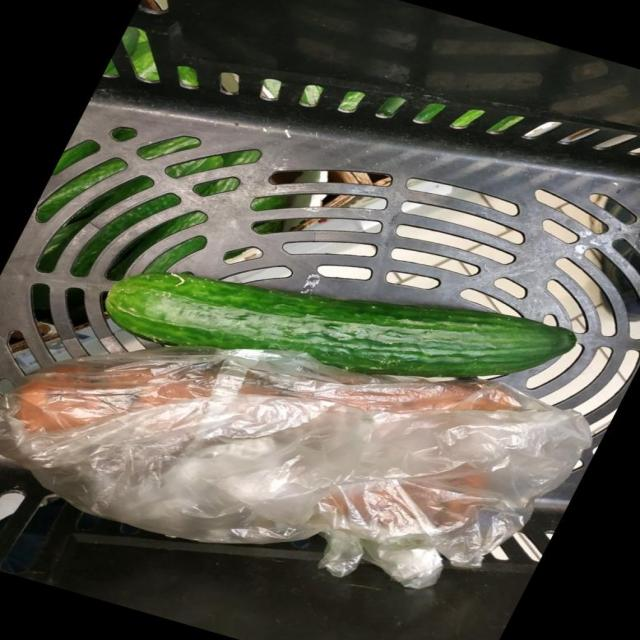Carrot: (9, 356, 222, 433), (405, 381, 517, 412)
Cucumber: (105, 272, 577, 378)
